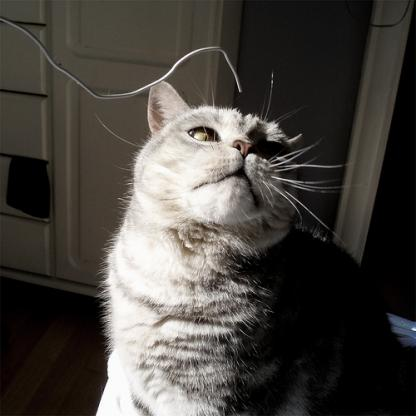cat: (96, 80, 415, 415)
